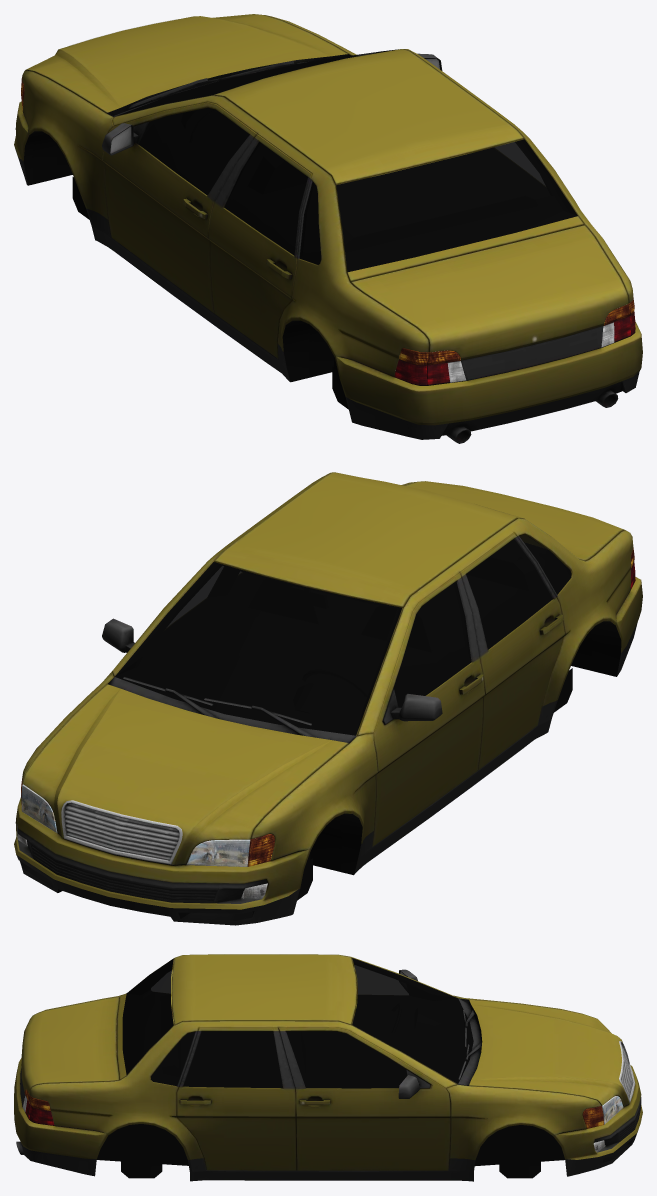
The model's file is car_sedan.glb.
3 views of the same model, one above another, from view 1: azimuth 30°, elevation 25°; view 2: azimuth 150°, elevation 25°; view 3: azimuth 270°, elevation 25° (orthographic). The views are drawn at different scales.
Parts seen in each view (by area): view 1: Sedan Body_Body_0, Sedan Body_Glass_0, Sedan Body_Optics_0; view 2: Sedan Body_Body_0, Sedan Body_Glass_0, Sedan Body_Optics_0; view 3: Sedan Body_Body_0, Sedan Body_Glass_0, Sedan Body_Optics_0.
Boxes of the visible parts, left/top/right/bottom form: Sedan Body_Body_0: left=14, top=14, right=642, bottom=443; Sedan Body_Glass_0: left=117, top=49, right=577, bottom=272; Sedan Body_Optics_0: left=21, top=77, right=635, bottom=385; Sedan Body_Body_0: left=14, top=472, right=642, bottom=925; Sedan Body_Glass_0: left=115, top=534, right=571, bottom=735; Sedan Body_Optics_0: left=16, top=547, right=635, bottom=899; Sedan Body_Body_0: left=14, top=954, right=642, bottom=1181; Sedan Body_Glass_0: left=122, top=958, right=473, bottom=1088; Sedan Body_Optics_0: left=22, top=1089, right=623, bottom=1152.
Bounding box in the file's own units: 2.03 × 1.25 × 4.55.
Materials: 3 (2 with a texture image).
